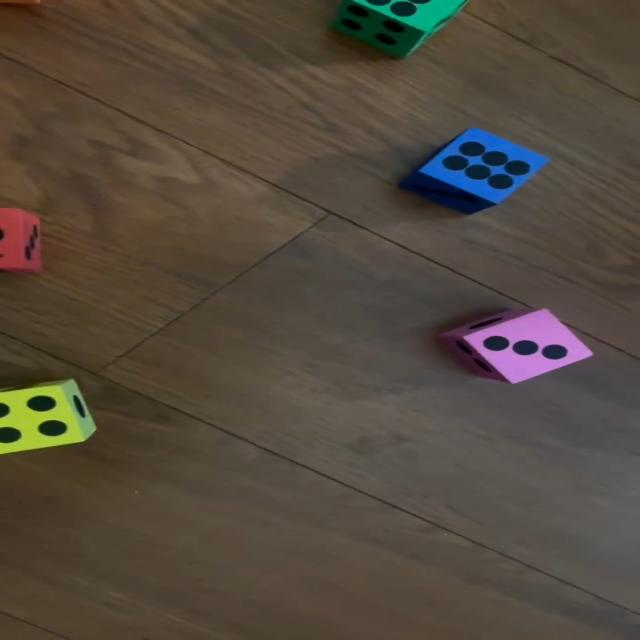red_block: (0, 208, 44, 272)
